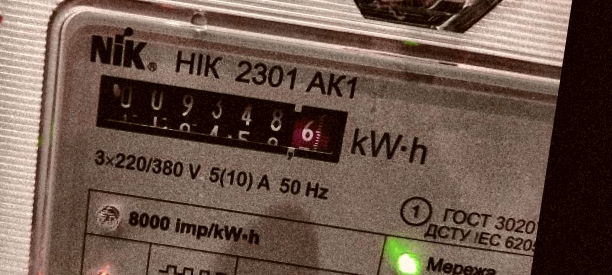0: (117, 81, 134, 109), (147, 86, 165, 111)
3: (207, 94, 225, 122)
4: (237, 98, 254, 127)
6: (297, 115, 318, 144)
8: (266, 104, 285, 134)
9: (176, 90, 195, 118)
screen: (82, 65, 358, 173)
